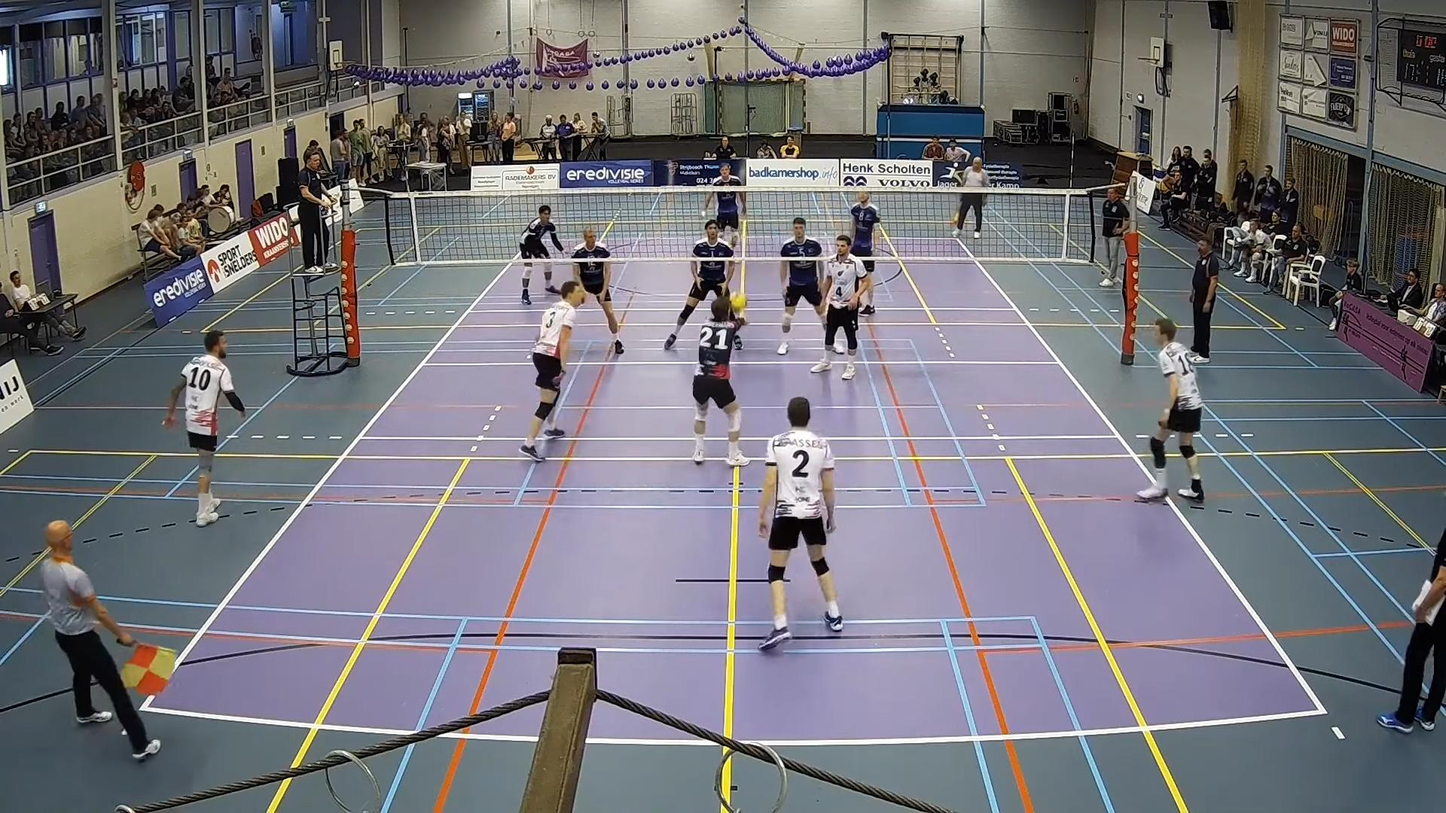ricezione: (690, 295, 752, 466)
